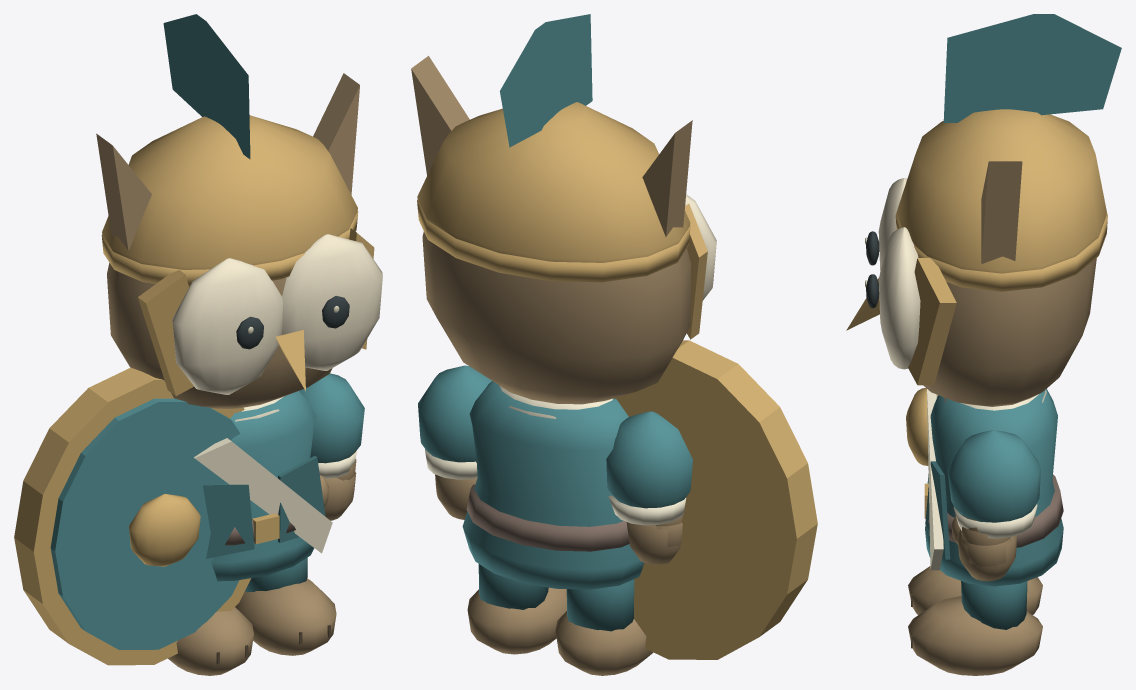
Rendered from guard.glb.
3 renders of one model, left to right at view 1: azimuth 30°, elevation 25°; view 2: azimuth 150°, elevation 25°; view 3: azimuth 270°, elevation 25°, orthographic. The views are drawn at different scales.
Visible parts, largest first — view 1: Regional shield face, Regional helmet, Shield gold rim, Owl face disk, Owl face disk.001, Short folded tunic, Greek crest, Animal cheek head, Soft animal paw.001, Cream shoulder sash, Shield boss, Puff sleeve.001 (+14 smaller); view 2: Shield gold rim, Regional helmet, Animal cheek head, Short folded tunic, Greek crest, Puff sleeve, Helmet brow band, Puff sleeve.001, Soft animal paw.001, Broad leather belt, Soft animal paw, Owl feather tuft.001 (+10 smaller); view 3: Regional helmet, Animal cheek head, Greek crest, Short folded tunic, Puff sleeve.001, Soft animal paw.001, Owl face disk.001, Corinthian cheek.001, Owl feather tuft.001, Helmet brow band, Stubby trouser.001, Soft animal paw (+10 smaller).
Boxes of the visible parts, x1,y1,x2,y2 form: Regional shield face: (50, 398, 240, 649); Regional helmet: (102, 115, 357, 269); Shield gold rim: (14, 367, 251, 665); Owl face disk: (172, 258, 282, 394); Owl face disk.001: (282, 234, 382, 370); Short folded tunic: (211, 390, 316, 581); Greek crest: (163, 14, 250, 159); Animal cheek head: (107, 263, 332, 408); Soft animal paw.001: (235, 578, 336, 655); Cream shoulder sash: (194, 438, 332, 553); Shield boss: (128, 494, 200, 566); Puff sleeve.001: (299, 373, 364, 463); Shield gold rim: (613, 340, 817, 659); Regional helmet: (417, 102, 690, 262); Animal cheek head: (422, 231, 690, 404); Short folded tunic: (462, 381, 644, 589); Greek crest: (500, 14, 592, 147); Puff sleeve: (606, 411, 692, 508); Helmet brow band: (417, 200, 690, 282); Puff sleeve.001: (418, 365, 491, 462); Soft animal paw.001: (467, 587, 566, 654); Broad leather belt: (466, 484, 629, 551); Soft animal paw: (555, 611, 653, 675); Owl feather tuft.001: (411, 56, 469, 175); Regional helmet: (896, 109, 1106, 273); Animal cheek head: (923, 258, 1096, 406); Greek crest: (943, 14, 1121, 122); Short folded tunic: (925, 389, 1063, 586); Puff sleeve.001: (947, 430, 1040, 522); Soft animal paw.001: (908, 596, 1042, 675); Owl face disk.001: (878, 227, 920, 369); Corinthian cheek.001: (908, 258, 956, 385); Owl feather tuft.001: (981, 161, 1022, 263); Helmet brow band: (895, 212, 1107, 291); Stubby trouser.001: (961, 581, 1027, 629); Soft animal paw: (908, 566, 1042, 614).
Bounding box in the file's own units: 1.09 × 1.86 × 0.735.
